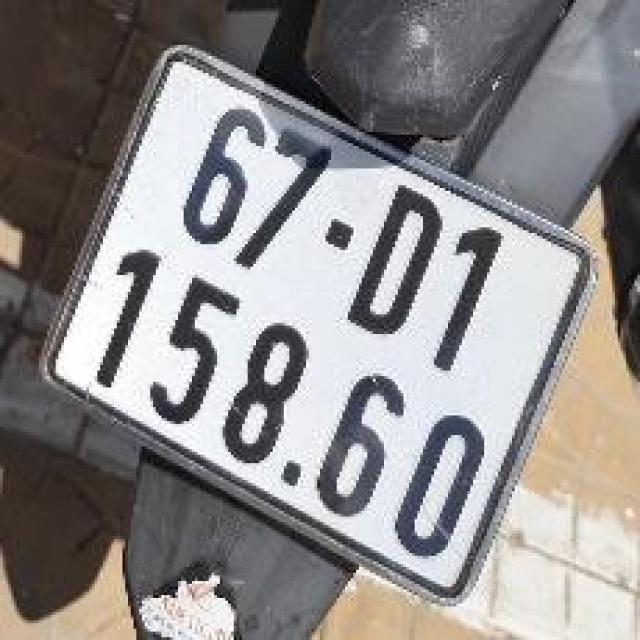0: (379, 396, 503, 574)
1: (414, 205, 527, 389), (72, 232, 178, 402)
5: (138, 261, 251, 437)
6: (298, 354, 418, 533), (166, 93, 280, 256)
7: (219, 112, 343, 286)
8: (209, 307, 326, 477)
D: (332, 170, 459, 353)
